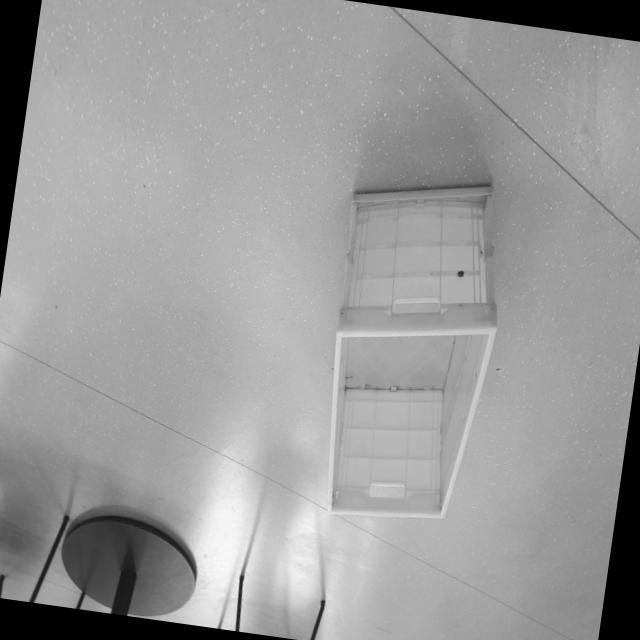box: (304, 150, 526, 543)
